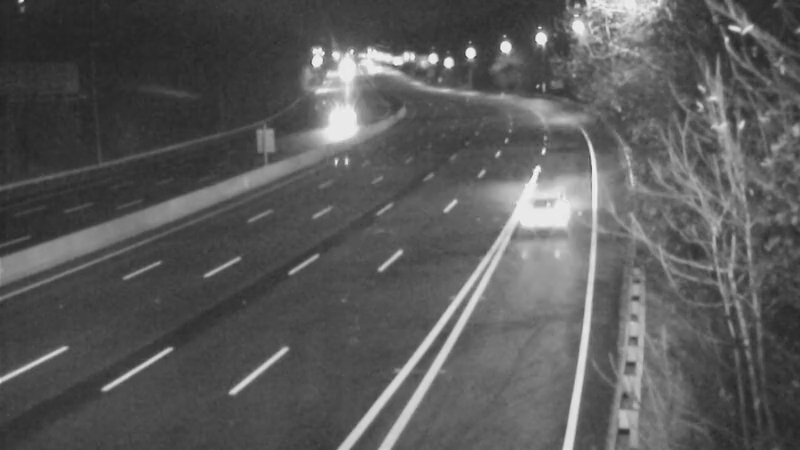vehicle: (501, 167, 581, 247), (317, 102, 367, 152)
